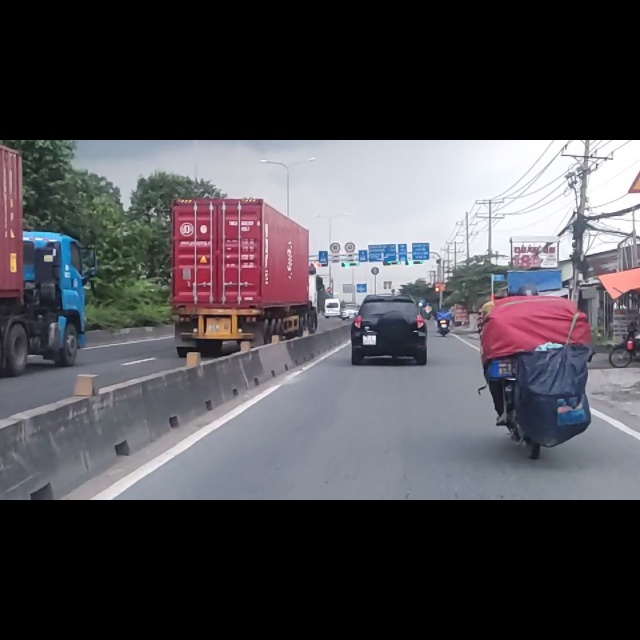bien_chi_dan: (343, 179, 356, 203), (330, 183, 340, 200)
